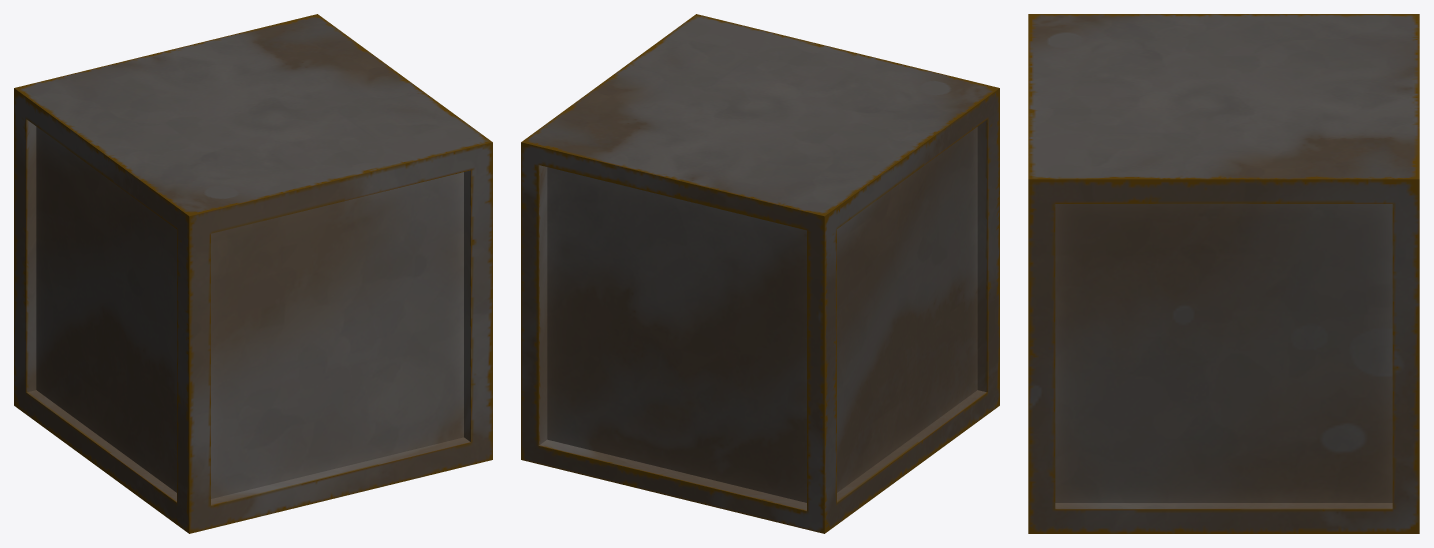
File: MetalBlock.fbx
3 renders of one model, left to right at view 1: azimuth 30°, elevation 25°; view 2: azimuth 150°, elevation 25°; view 3: azimuth 270°, elevation 25°, orthographic. The views are drawn at different scales.
Parts seen in each view (by area): view 1: Cube.013; view 2: Cube.013; view 3: Cube.013.
Part boxes in pixels (x1,y1,x2,y2): Cube.013: (14,14,492,533); Cube.013: (521,14,999,533); Cube.013: (1028,14,1419,533).
Size of the model in its own units: 344 by 344 by 344.
1 material, 1 textured.
